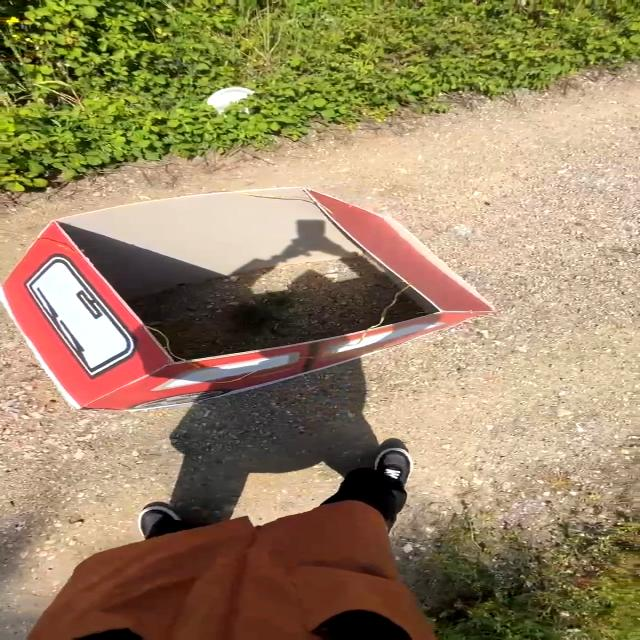red_car: (0, 156, 562, 435)
